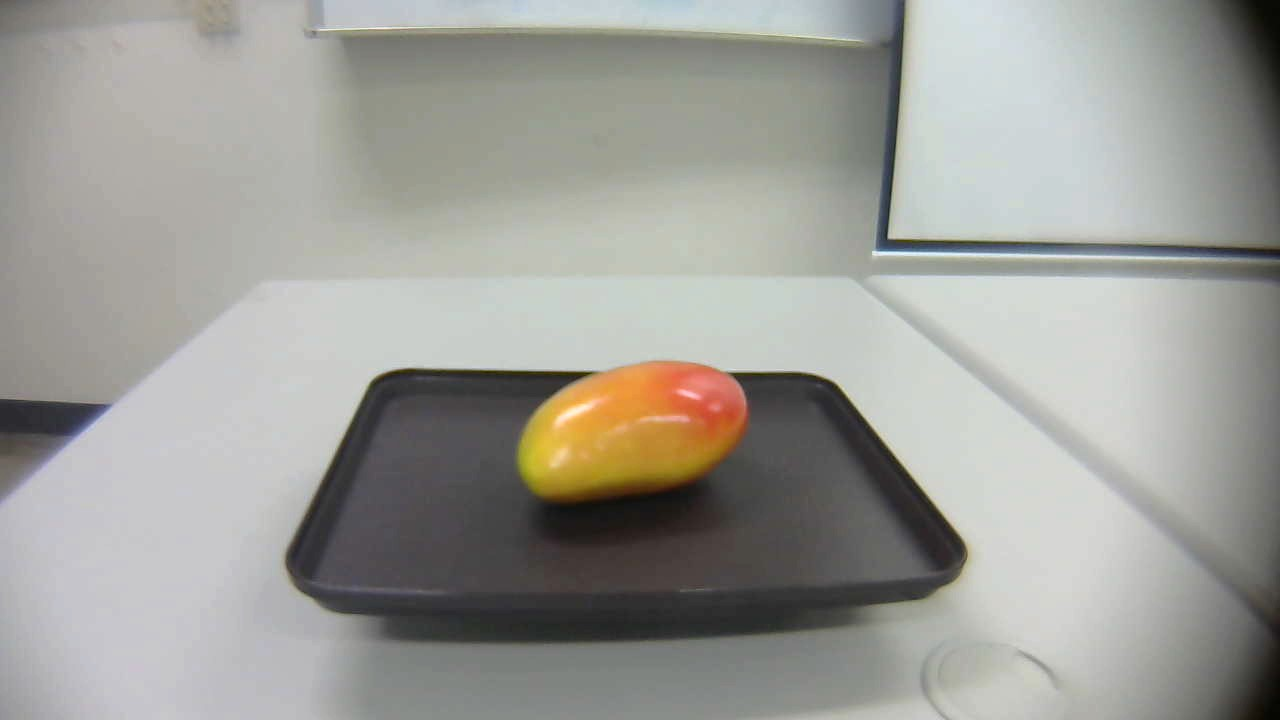red mango: (515, 363, 752, 505)
